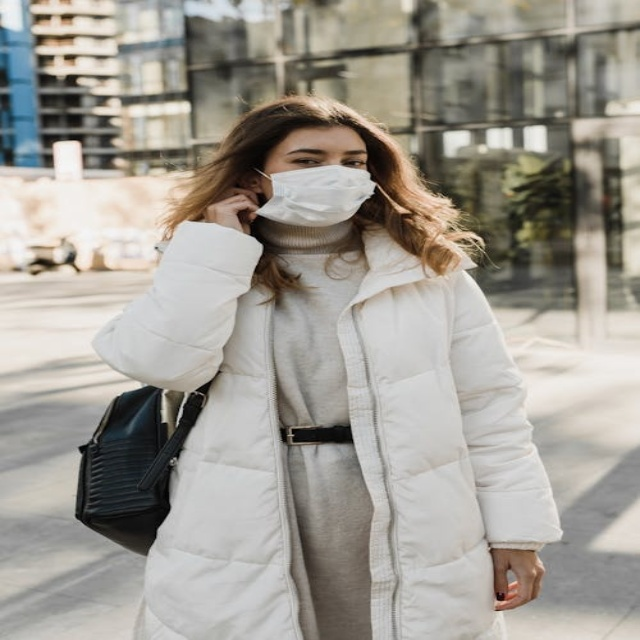Mascara: (250, 163, 378, 226)
Sin_gafas: (264, 145, 374, 169)
Sin_guantes: (477, 542, 558, 614), (198, 191, 266, 237)
